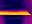Hotspot: (0, 10, 30, 15)
